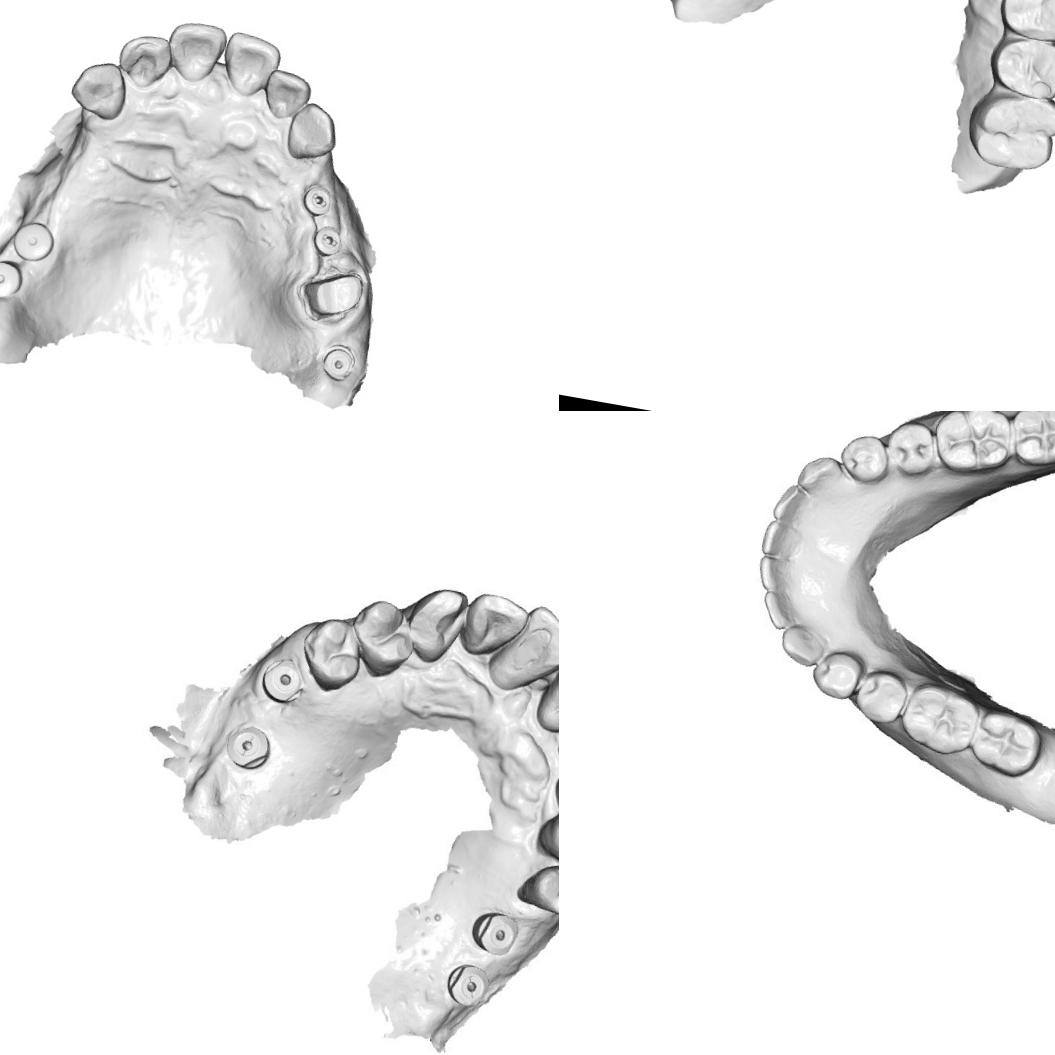canine: (407, 580, 475, 666), (64, 54, 131, 124), (282, 97, 343, 167), (794, 456, 850, 507), (780, 622, 830, 667)
crown: (294, 259, 368, 331)
implant: (6, 216, 59, 266), (472, 906, 524, 956), (256, 652, 305, 702), (316, 340, 359, 385), (0, 254, 27, 301)
implant_minus: (222, 720, 280, 774), (443, 957, 494, 1014), (296, 180, 336, 220), (308, 220, 346, 260)
incisor: (487, 599, 559, 699), (160, 15, 230, 88), (461, 588, 531, 660), (216, 28, 285, 101), (112, 28, 176, 94), (258, 66, 314, 123), (760, 588, 824, 634), (756, 554, 808, 597), (769, 486, 816, 530), (760, 520, 806, 562), (537, 648, 559, 734)
molar: (960, 83, 1055, 178), (897, 680, 987, 761), (933, 411, 1018, 475), (972, 708, 1038, 770), (1006, 411, 1055, 467)
premolar: (296, 611, 370, 690), (983, 31, 1055, 103), (354, 598, 418, 675), (885, 420, 940, 476), (857, 670, 913, 724), (837, 433, 896, 483), (995, 0, 1055, 45), (808, 653, 861, 699), (526, 856, 559, 922), (544, 808, 559, 868)
